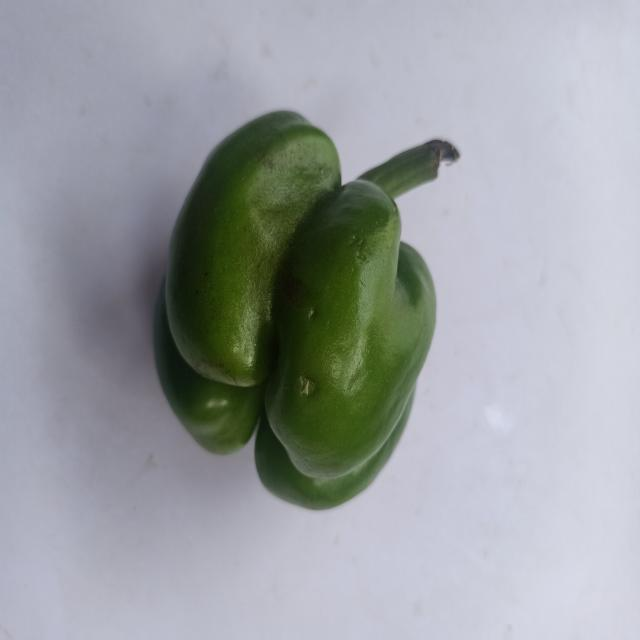Capsicum: (143, 80, 487, 531)
